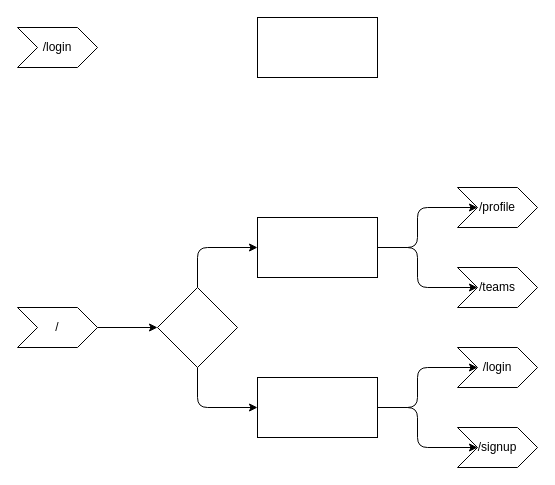
Image size: 555x485. Some labels were removed from this diagram. Here are the shapes that lost their labels. From the top down, the centre of each, then its label:
At (317,247): "Quick navigation".
At (197,327): "Logged in?".
At (317,407): "Welcome page".
